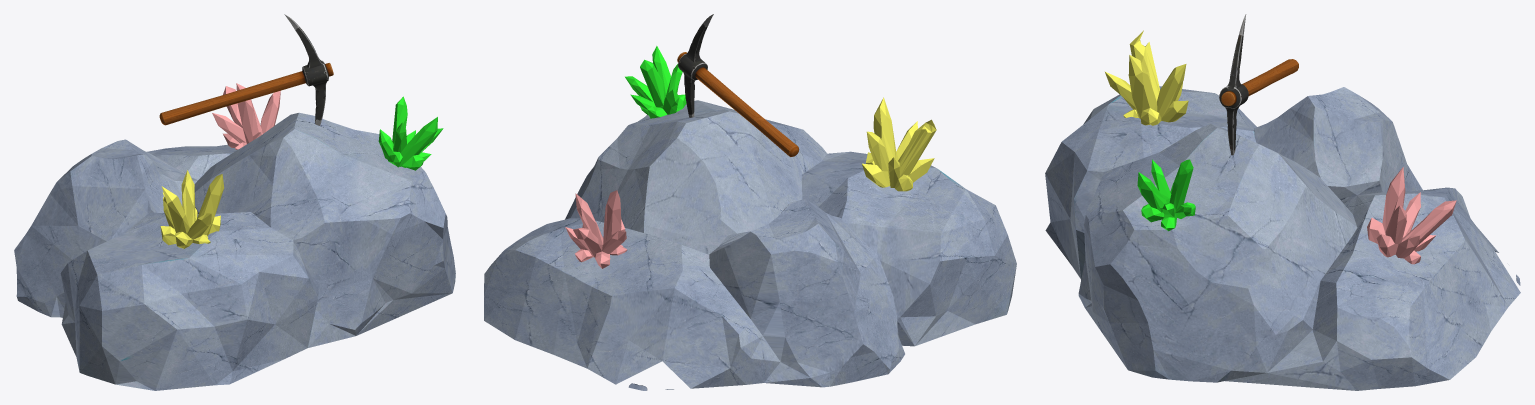
Rendered from Mine.fbx.
3 views of the same model, side by side, from view 1: azimuth 30°, elevation 25°; view 2: azimuth 150°, elevation 25°; view 3: azimuth 270°, elevation 25° (orthographic). The views are drawn at different scales.
Visible parts, largest first — view 1: Mine_LOD0; view 2: Mine_LOD0; view 3: Mine_LOD0.
Part boxes in pixels (left/top/right/bottom): Mine_LOD0: left=14, top=14, right=455, bottom=390; Mine_LOD0: left=484, top=14, right=1016, bottom=390; Mine_LOD0: left=1045, top=14, right=1520, bottom=390.
Size of what is drawn, in the model's own units: 358 by 229 by 335.
Materials: 5 (2 with a texture image).
